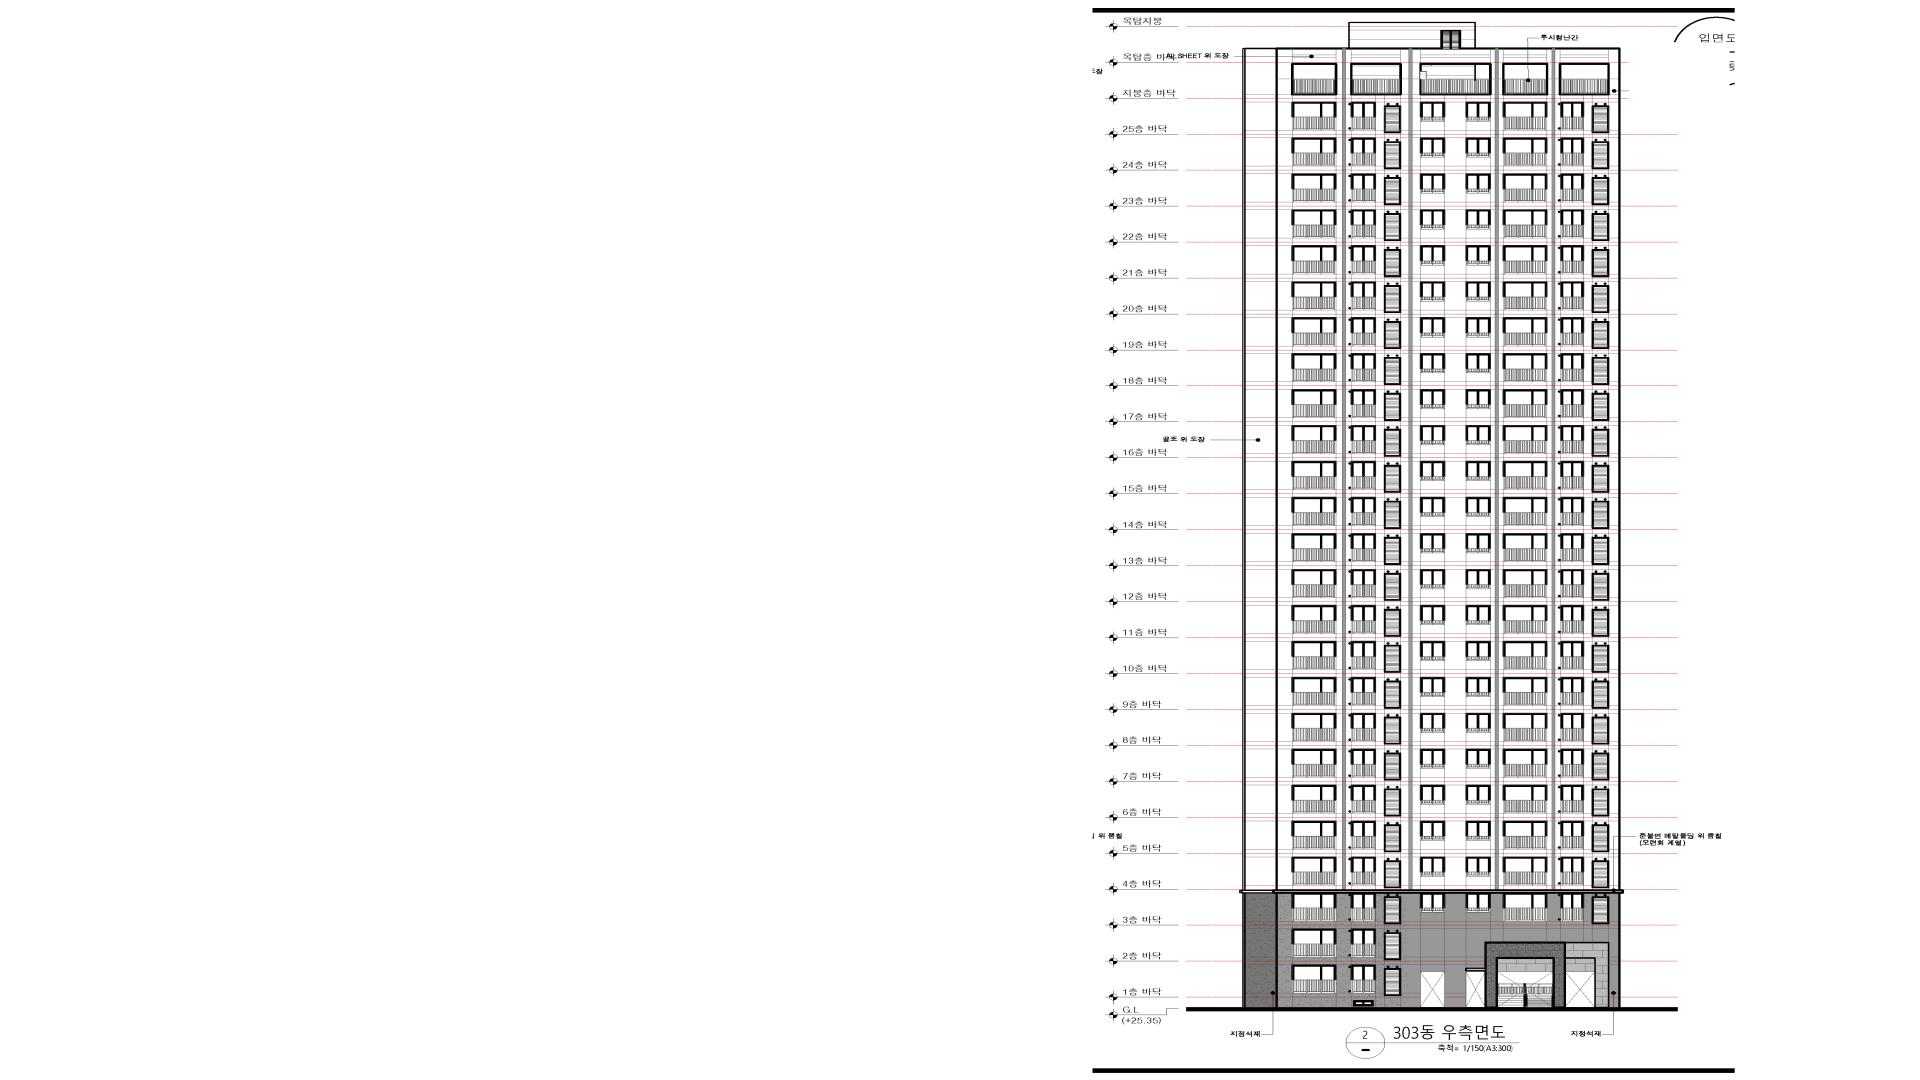door: (1497, 971, 1553, 1007), (1566, 971, 1595, 1007), (1420, 971, 1445, 1007), (1466, 971, 1485, 1007)
wall: (1243, 22, 1621, 1011)
window: (1420, 63, 1491, 95), (1351, 63, 1401, 95), (1559, 63, 1609, 95), (1291, 63, 1337, 95), (1502, 63, 1548, 95), (1291, 137, 1337, 166), (1291, 245, 1337, 274), (1291, 281, 1337, 310), (1291, 353, 1337, 382), (1291, 425, 1337, 454), (1291, 461, 1337, 490), (1291, 497, 1337, 526), (1291, 533, 1337, 562), (1291, 569, 1337, 598), (1291, 641, 1337, 670), (1291, 748, 1337, 777), (1291, 856, 1337, 885), (1291, 893, 1337, 922), (1291, 928, 1337, 957), (1292, 173, 1337, 202), (1292, 209, 1337, 238), (1291, 317, 1336, 346), (1292, 389, 1337, 418), (1291, 605, 1336, 634), (1292, 677, 1337, 706), (1292, 713, 1337, 742), (1292, 964, 1337, 993), (1503, 857, 1548, 886), (1503, 784, 1548, 813), (1502, 677, 1547, 706), (1502, 605, 1547, 634), (1502, 497, 1547, 526), (1503, 389, 1548, 418), (1503, 317, 1548, 346), (1503, 282, 1548, 311), (1503, 173, 1548, 202), (1291, 102, 1337, 130), (1292, 821, 1338, 849), (1503, 893, 1547, 922), (1503, 749, 1547, 778), (1503, 713, 1547, 742), (1503, 641, 1547, 670), (1503, 569, 1547, 598), (1503, 533, 1547, 562), (1503, 461, 1547, 490), (1503, 425, 1547, 454), (1503, 353, 1547, 382), (1503, 245, 1547, 274), (1503, 209, 1547, 238), (1503, 137, 1547, 166), (1503, 102, 1547, 131), (1292, 785, 1337, 813), (1503, 821, 1548, 849), (1350, 317, 1376, 346), (1350, 210, 1376, 238), (1351, 137, 1376, 166), (1351, 173, 1376, 202), (1351, 245, 1376, 274), (1351, 281, 1376, 310), (1351, 353, 1376, 382), (1351, 389, 1376, 418), (1351, 425, 1376, 454), (1351, 461, 1376, 490), (1351, 497, 1376, 526), (1351, 533, 1376, 562), (1351, 569, 1376, 598), (1351, 605, 1376, 634), (1351, 641, 1376, 670), (1351, 677, 1376, 706), (1351, 713, 1376, 742), (1351, 749, 1376, 778), (1351, 785, 1376, 814), (1351, 821, 1376, 850), (1351, 892, 1376, 921), (1351, 928, 1376, 957), (1351, 102, 1376, 130), (1351, 857, 1376, 885), (1350, 965, 1375, 993), (1560, 856, 1584, 885), (1560, 641, 1584, 670), (1560, 605, 1584, 634), (1560, 461, 1584, 490), (1560, 389, 1584, 418), (1560, 353, 1584, 382), (1560, 245, 1584, 274), (1560, 173, 1584, 202), (1560, 785, 1584, 813), (1561, 893, 1584, 922), (1561, 821, 1584, 850), (1561, 749, 1584, 778), (1561, 713, 1584, 742), (1561, 677, 1584, 706), (1561, 569, 1584, 598), (1561, 533, 1584, 562), (1561, 497, 1584, 526), (1561, 425, 1584, 454), (1560, 317, 1583, 346), (1561, 281, 1584, 310), (1560, 209, 1583, 238), (1561, 137, 1584, 166), (1561, 101, 1584, 130), (1592, 281, 1610, 313), (1592, 353, 1610, 385), (1384, 462, 1402, 493), (1592, 461, 1610, 492), (1591, 749, 1609, 780), (1384, 785, 1401, 817), (1384, 749, 1401, 781), (1384, 713, 1401, 745), (1384, 677, 1401, 709), (1384, 641, 1401, 673), (1384, 569, 1401, 601), (1384, 497, 1401, 529), (1384, 353, 1401, 385), (1592, 425, 1609, 457), (1592, 533, 1609, 565), (1592, 497, 1609, 529), (1592, 569, 1609, 601), (1592, 605, 1609, 637), (1592, 641, 1609, 673), (1592, 677, 1609, 709), (1592, 713, 1609, 745), (1592, 785, 1609, 817), (1384, 965, 1401, 996), (1384, 929, 1401, 960), (1384, 893, 1401, 924), (1384, 857, 1401, 888), (1384, 821, 1401, 852), (1384, 605, 1401, 636), (1384, 534, 1401, 565), (1384, 425, 1401, 456), (1384, 390, 1401, 421), (1384, 318, 1401, 349), (1384, 282, 1401, 313), (1384, 246, 1401, 277), (1384, 210, 1401, 241), (1384, 174, 1401, 205), (1384, 138, 1401, 169), (1384, 102, 1401, 133), (1592, 102, 1609, 133), (1592, 138, 1609, 169), (1592, 174, 1609, 205), (1592, 210, 1609, 241), (1592, 246, 1609, 277), (1592, 318, 1609, 349), (1592, 390, 1609, 421), (1592, 821, 1609, 852), (1592, 857, 1609, 888), (1592, 893, 1609, 924), (1465, 137, 1491, 157), (1465, 173, 1491, 193), (1465, 209, 1491, 229), (1465, 245, 1491, 265), (1465, 281, 1491, 301), (1465, 317, 1491, 337), (1465, 353, 1491, 373), (1465, 389, 1491, 409), (1465, 425, 1491, 445), (1465, 497, 1491, 517), (1465, 533, 1491, 553), (1465, 605, 1491, 625), (1465, 641, 1491, 661), (1465, 713, 1491, 733), (1466, 461, 1491, 481), (1466, 569, 1491, 589), (1466, 677, 1491, 697), (1420, 821, 1445, 841), (1420, 677, 1445, 697), (1420, 641, 1445, 661), (1420, 605, 1445, 625), (1420, 569, 1445, 589), (1420, 533, 1445, 553), (1420, 497, 1445, 517), (1420, 461, 1445, 481), (1420, 425, 1445, 445), (1420, 389, 1445, 409), (1420, 353, 1445, 373), (1420, 317, 1445, 337), (1420, 245, 1445, 265), (1420, 209, 1445, 229), (1420, 173, 1445, 193), (1420, 137, 1445, 157), (1465, 102, 1491, 121), (1465, 785, 1491, 804), (1465, 821, 1491, 840), (1465, 893, 1491, 912), (1466, 749, 1491, 768), (1466, 857, 1491, 876), (1420, 893, 1445, 912), (1420, 857, 1445, 876), (1420, 785, 1445, 804), (1420, 749, 1445, 768), (1420, 713, 1445, 732), (1420, 282, 1445, 301), (1420, 102, 1445, 121), (1440, 30, 1461, 50)
